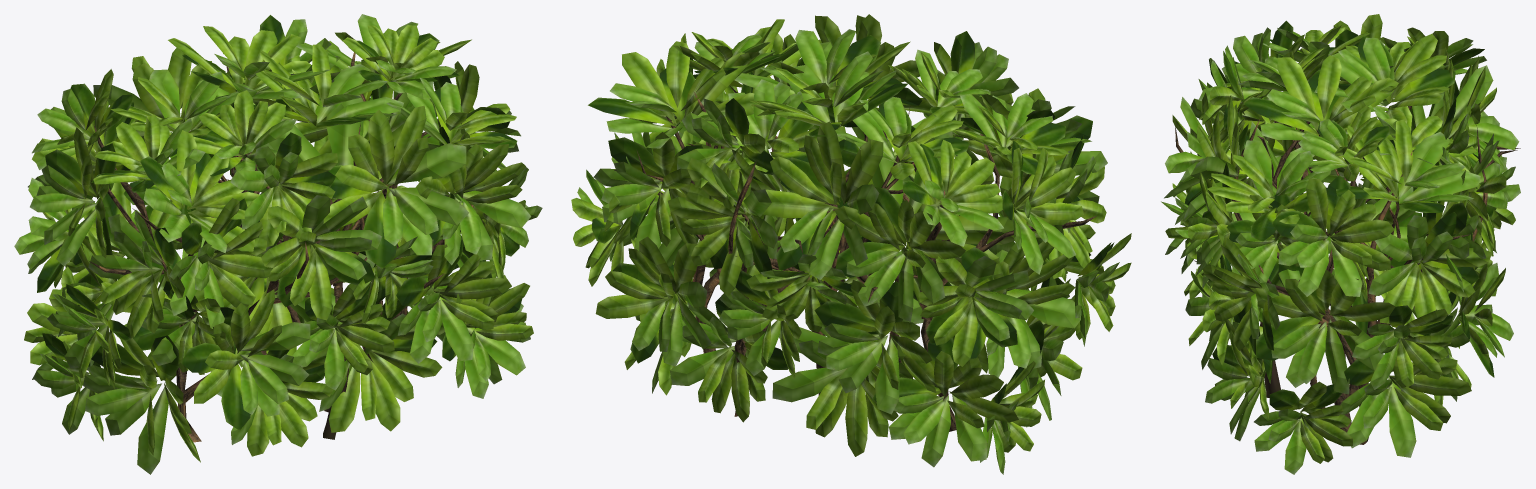
Rendered from hedge.obj.
The picture shows the model from 3 angles, left to right: view 1: azimuth 30°, elevation 25°; view 2: azimuth 150°, elevation 25°; view 3: azimuth 270°, elevation 25°; orthographic projection. The views are drawn at different scales.
Parts seen in each view (by area): view 1: leaves_Plane.020, branches_stems_1.003; view 2: leaves_Plane.020, branches_stems_1.003; view 3: leaves_Plane.020, branches_stems_1.003.
Boxes of the visible parts, box(x1,y1,x2,y2) form: leaves_Plane.020: box(14, 14, 542, 474); branches_stems_1.003: box(89, 52, 473, 442); leaves_Plane.020: box(571, 14, 1131, 474); branches_stems_1.003: box(614, 81, 1097, 431); leaves_Plane.020: box(1161, 14, 1520, 474); branches_stems_1.003: box(1175, 90, 1520, 444).
Bounding box in the file's own units: 151 × 106 × 105.
2 materials, 2 textured.
